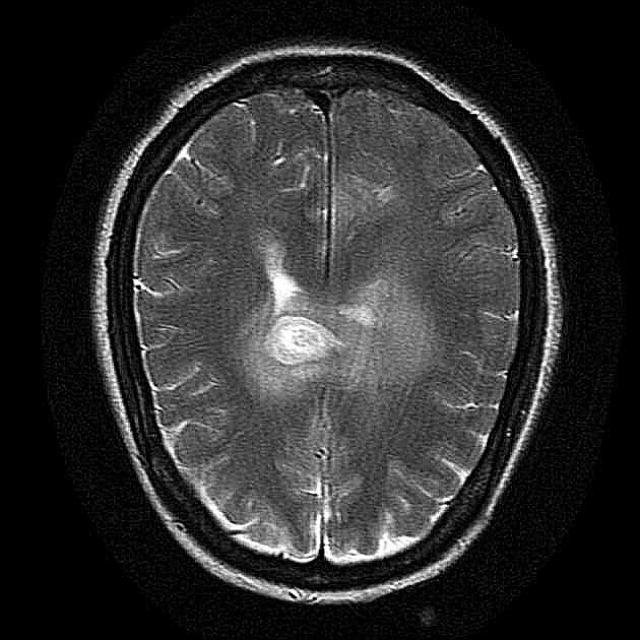Tumor-Cell: (265, 295, 346, 381)
